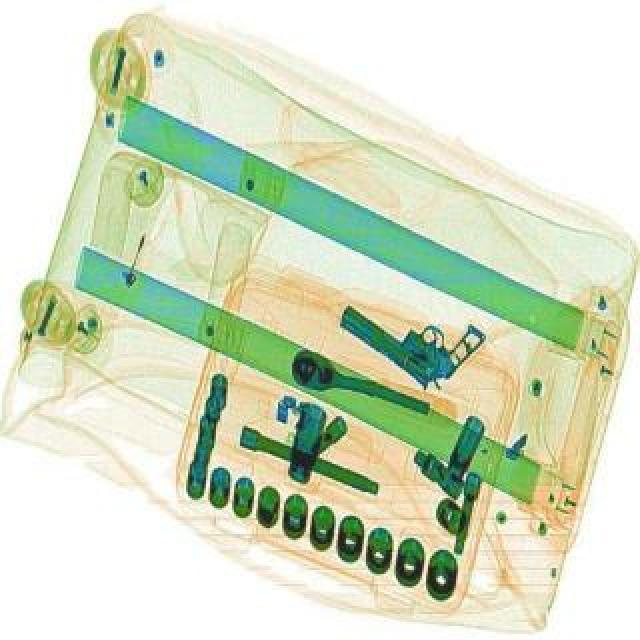gun: (328, 264, 488, 396)
